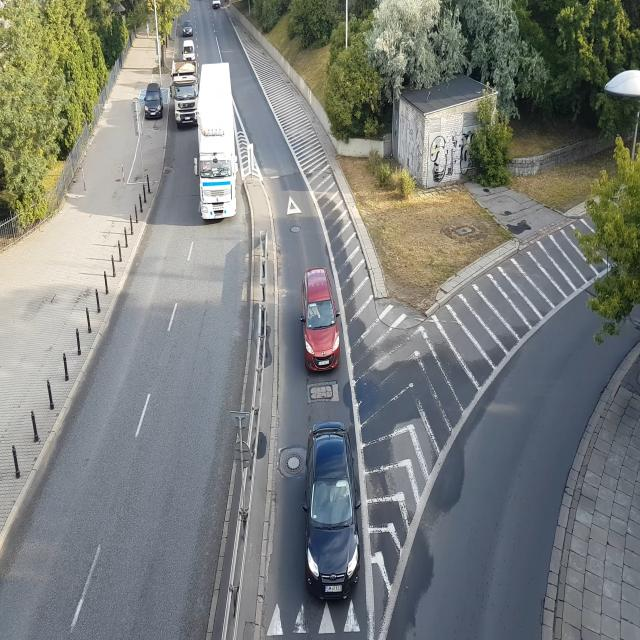car: (299, 418, 367, 602), (301, 267, 342, 372), (173, 76, 200, 128), (143, 88, 165, 118), (182, 39, 196, 62), (182, 16, 193, 36), (213, 0, 223, 11)
truck: (194, 66, 237, 222)
